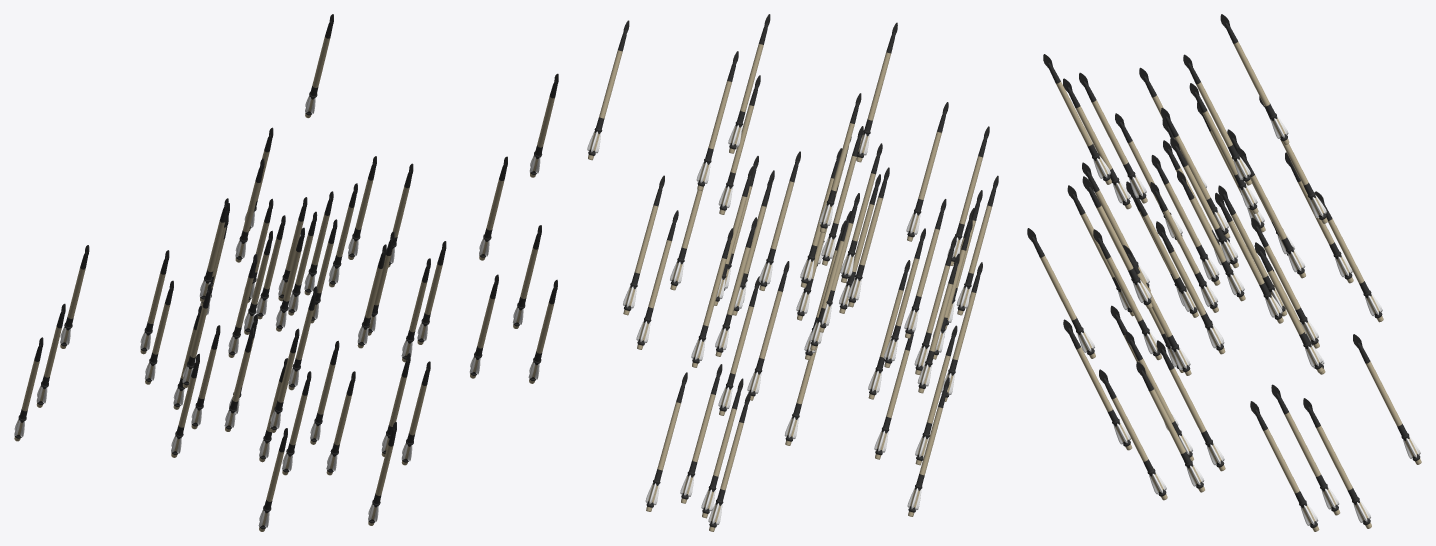
3 views of the same model, side by side, from view 1: azimuth 30°, elevation 25°; view 2: azimuth 150°, elevation 25°; view 3: azimuth 270°, elevation 25° (orthographic). The views are drawn at different scales.
Visible parts, largest first — view 1: C2; view 2: C2; view 3: C2.
Boxes of the visible parts, bbox=[...] form: C2: bbox=[14, 14, 558, 531]; C2: bbox=[587, 14, 998, 531]; C2: bbox=[1027, 14, 1421, 531].
Bounding box in the file's own units: 1.2 × 1.3 × 0.9378.
